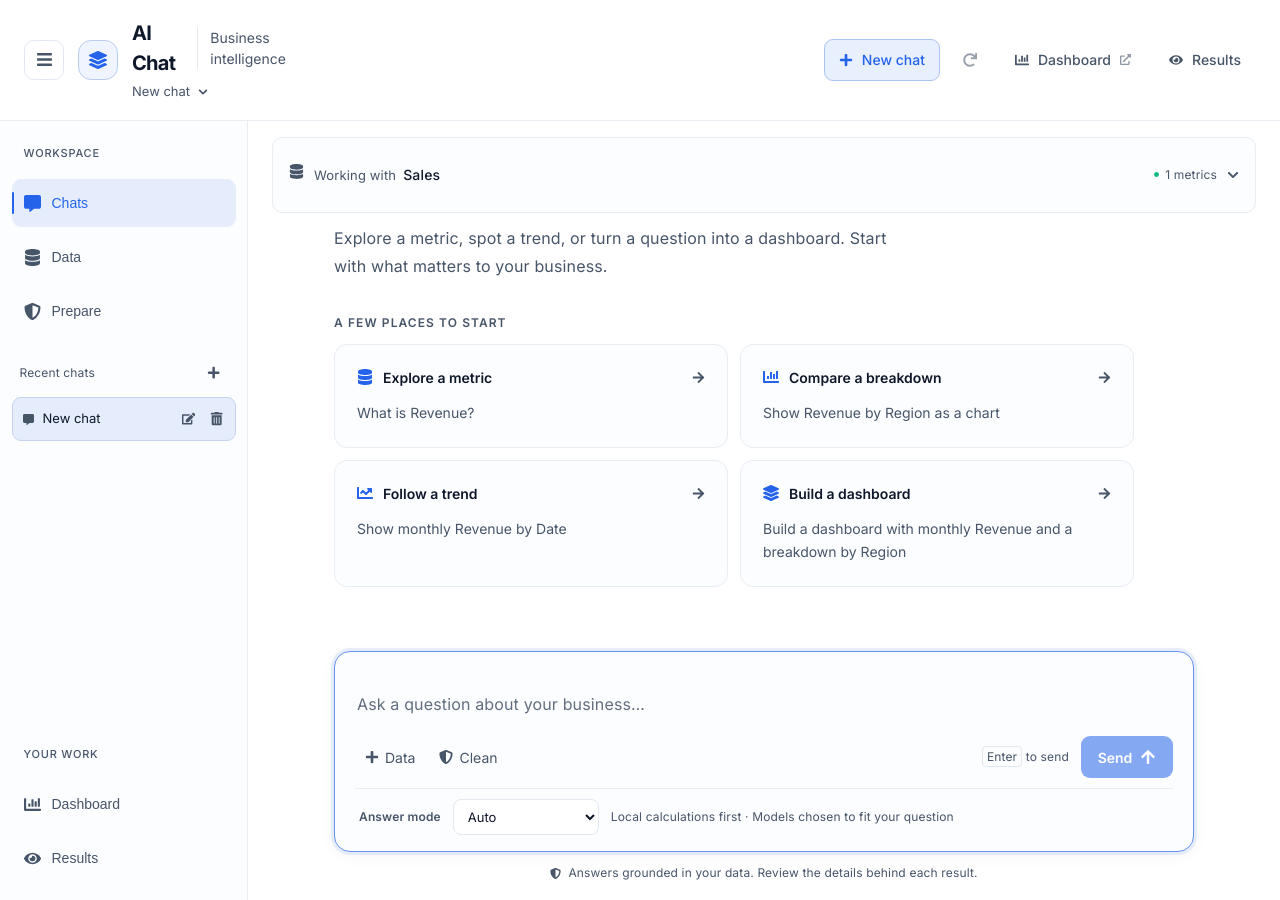
Test case: double submission, cancellation and late completion cannot add duplicate or stale answers
(page scrolled)
Type "Old question" into the text box named "Business question" at (764, 704), box 357,691 -> 1171,717
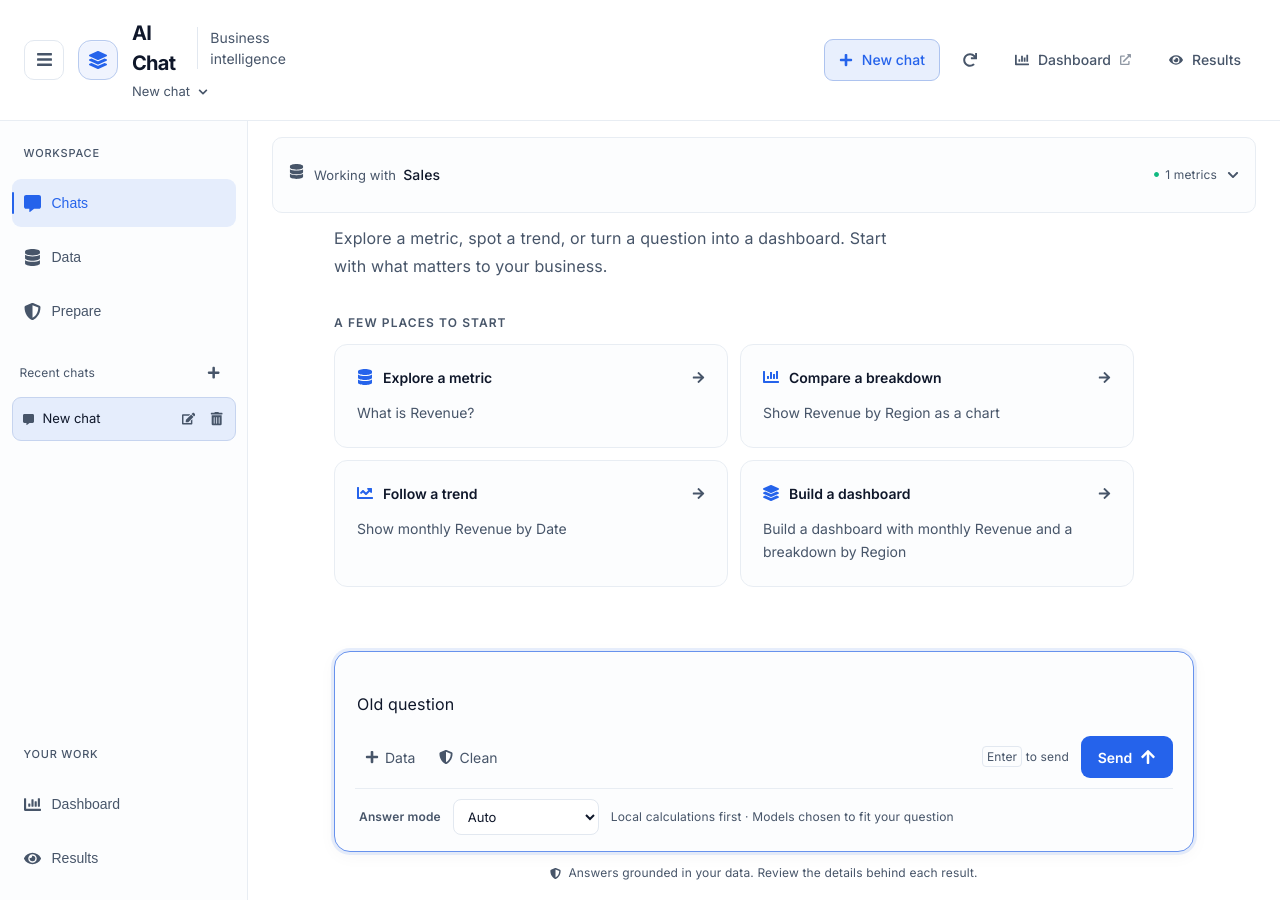
Click the button with aria-label "Send Message" at (1127, 757), box 1081,736 -> 1173,778
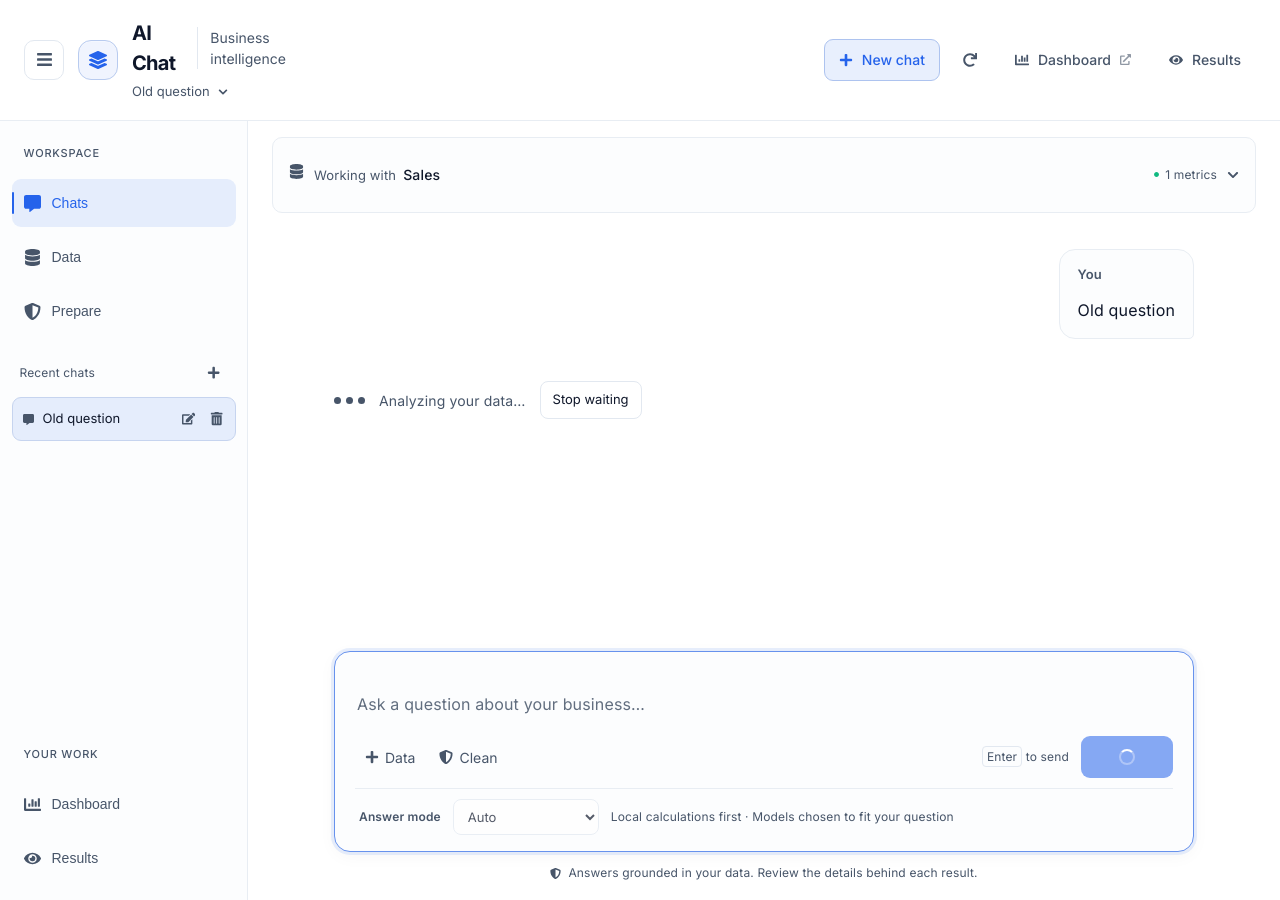
Press Enter in the text box named "Business question", box 357,691 -> 1171,717
Click the button "Stop waiting" at (591, 400), box 540,381 -> 642,419
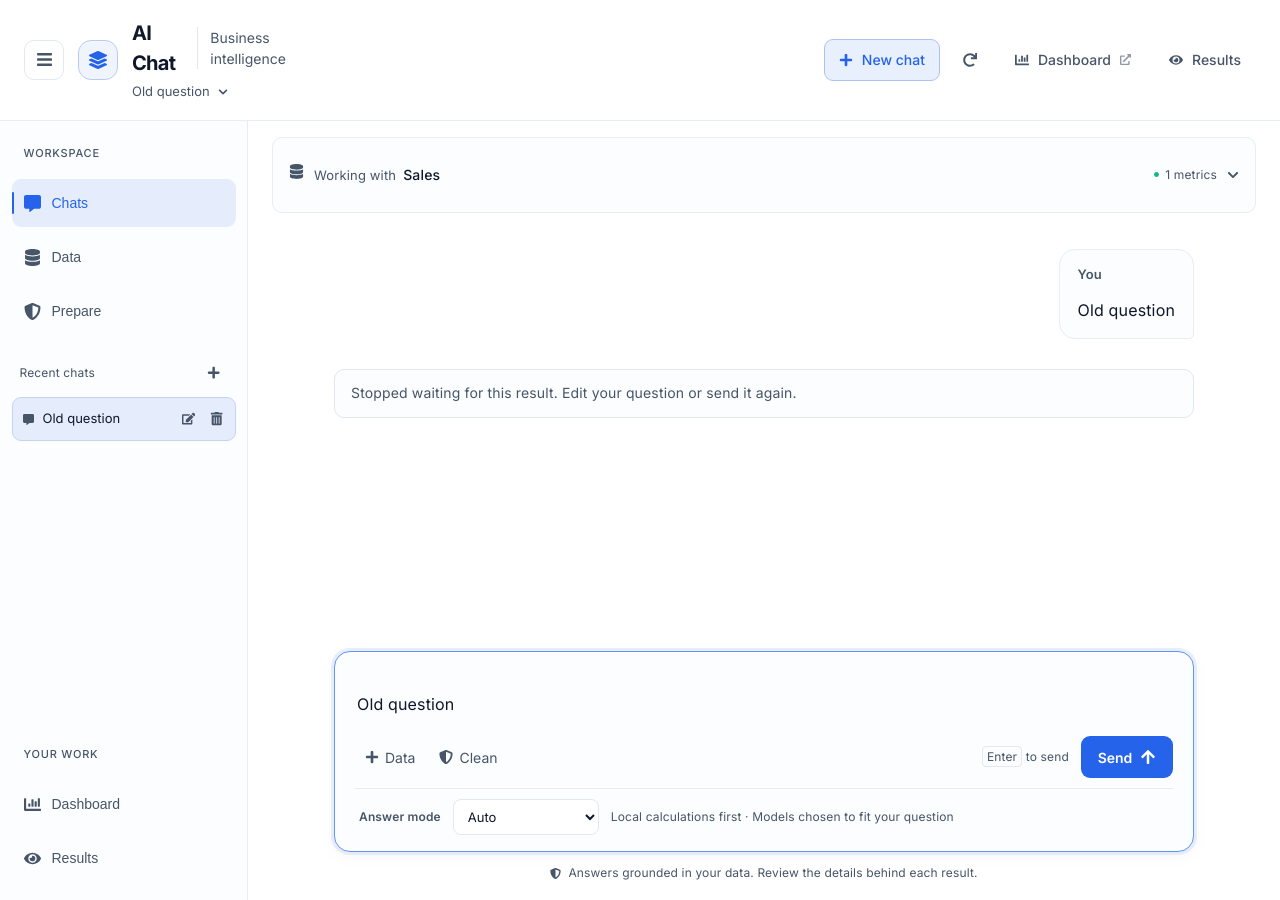
Replace the text in the text box named "Business question" with "New question" at (764, 704), box 357,691 -> 1171,717
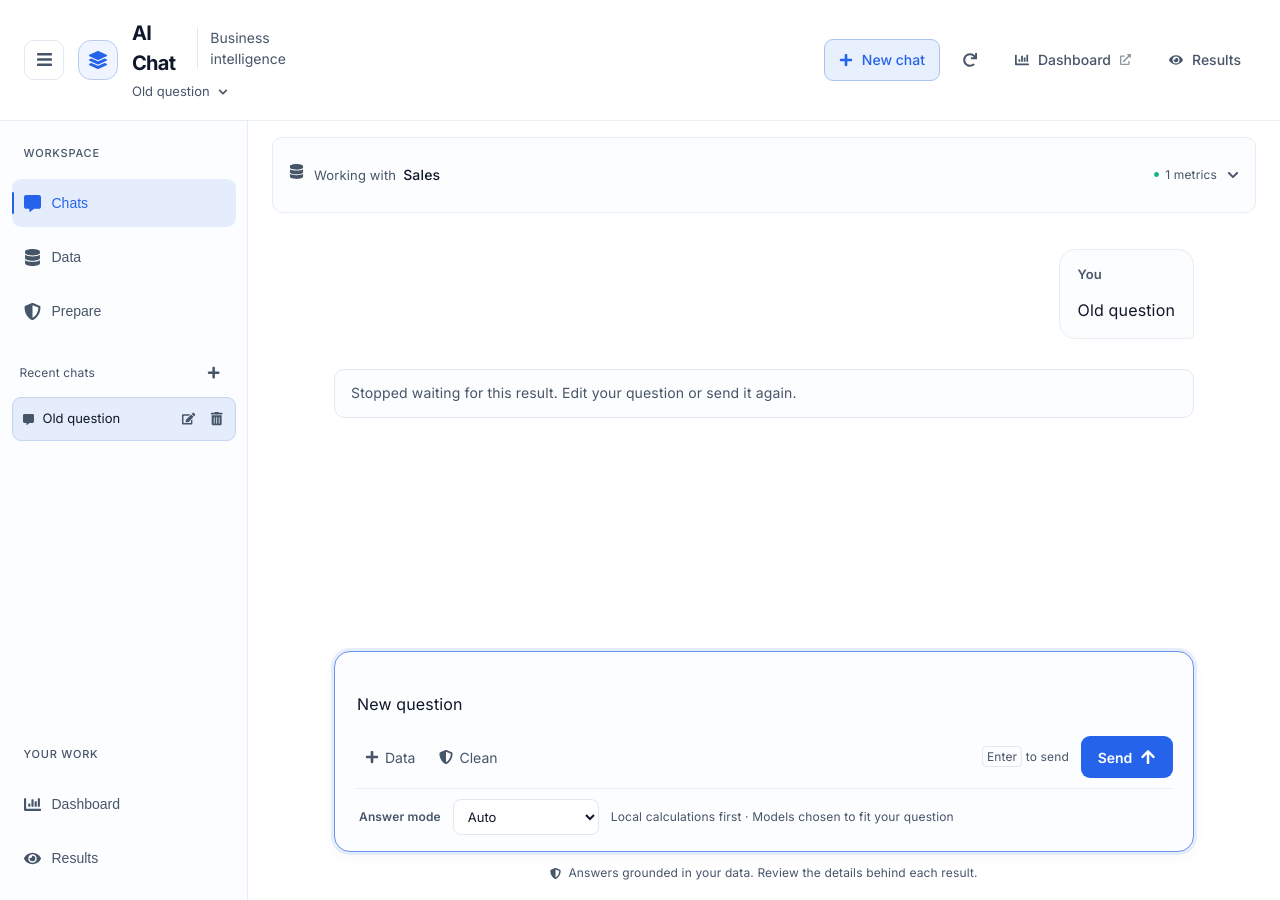
Click the button with aria-label "Send Message" at (1127, 757), box 1081,736 -> 1173,778
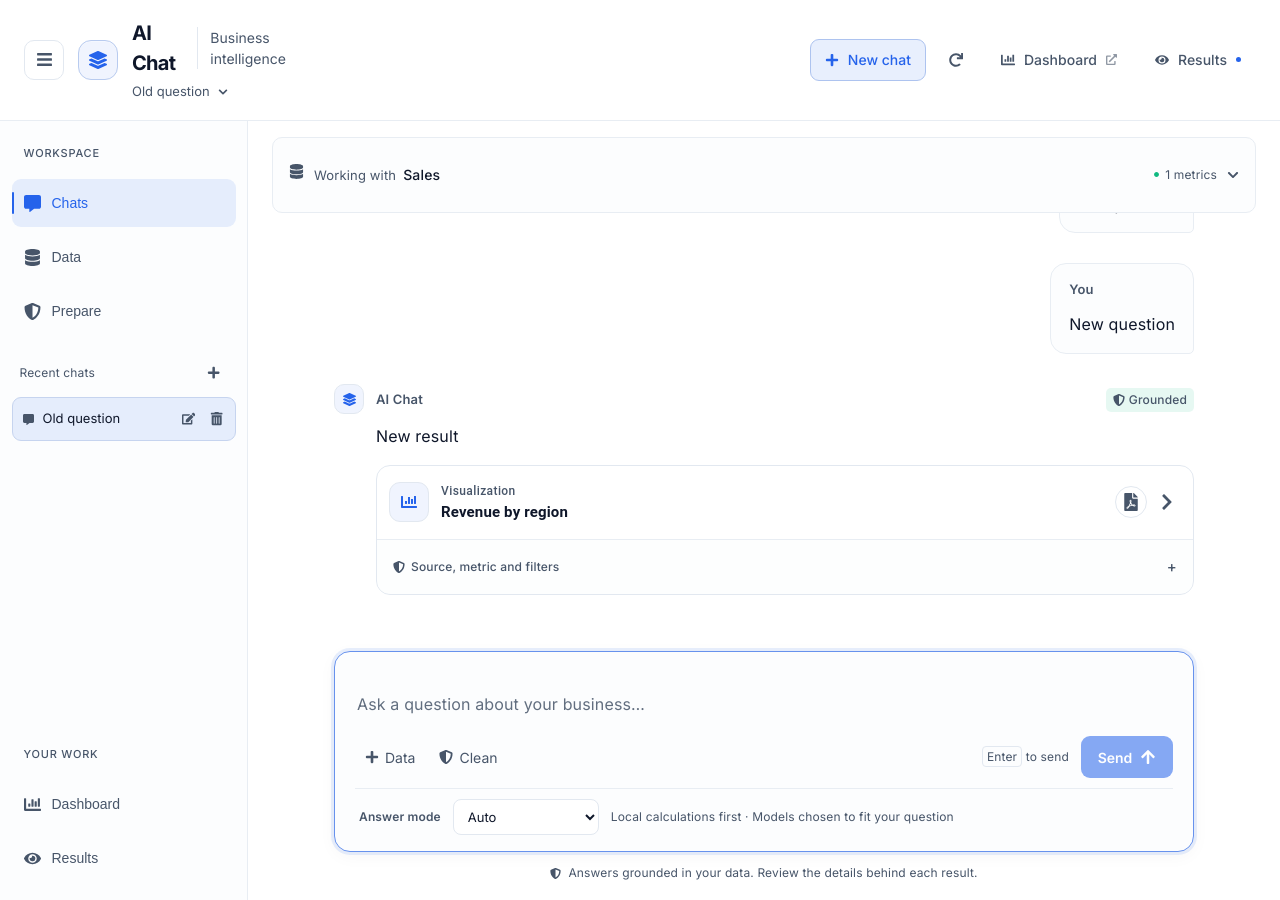
Check: the text "New result" is shown, box 376,426 -> 458,446
